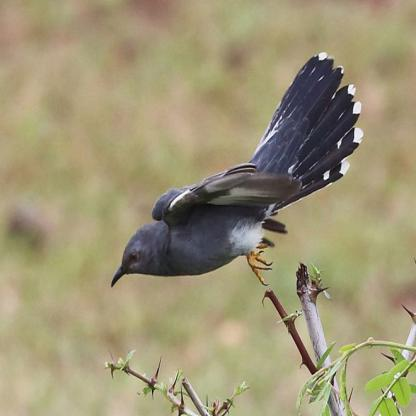Burung: (110, 51, 363, 287)
